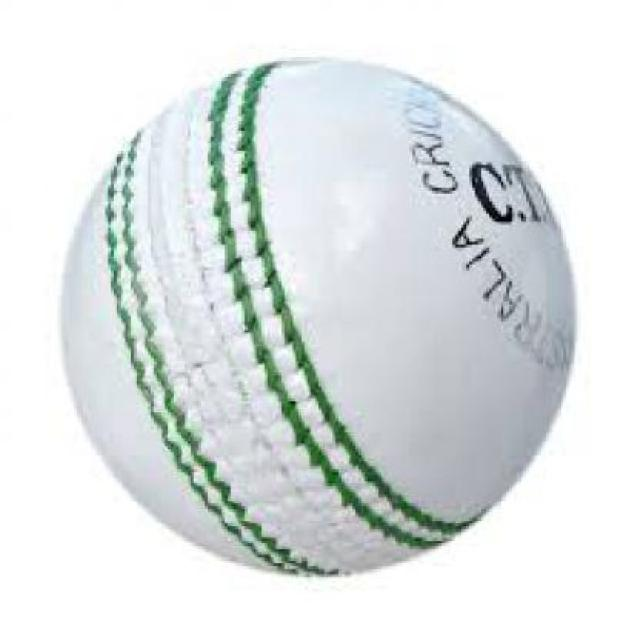ball: (45, 41, 602, 590)
